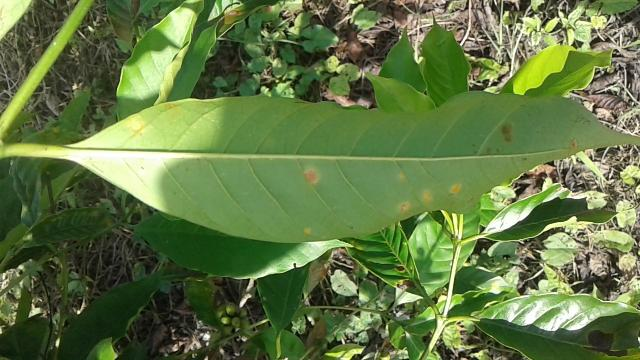rust_level_1: (0, 91, 638, 241)
